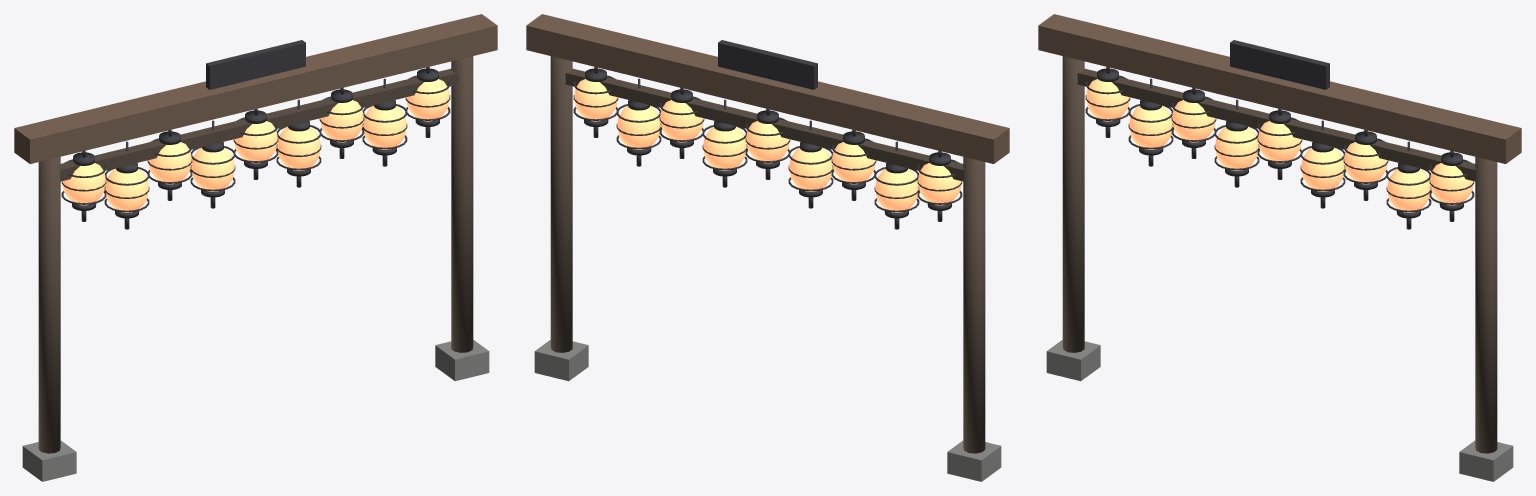
Rendered from prop_chouchin_arch.glb.
3 views of the same model, side by side, from view 1: azimuth 30°, elevation 25°; view 2: azimuth 150°, elevation 25°; view 3: azimuth 330°, elevation 25° (orthographic).
Parts seen in each view (by area): view 1: chouchin_arch; view 2: chouchin_arch; view 3: chouchin_arch.
Boxes of the visible parts, <box> form: chouchin_arch: <box>14,14,497,481</box>; chouchin_arch: <box>526,14,1009,481</box>; chouchin_arch: <box>1038,14,1521,481</box>.
Bounding box in the file's own units: 6.8 × 5.1 × 0.5641.
